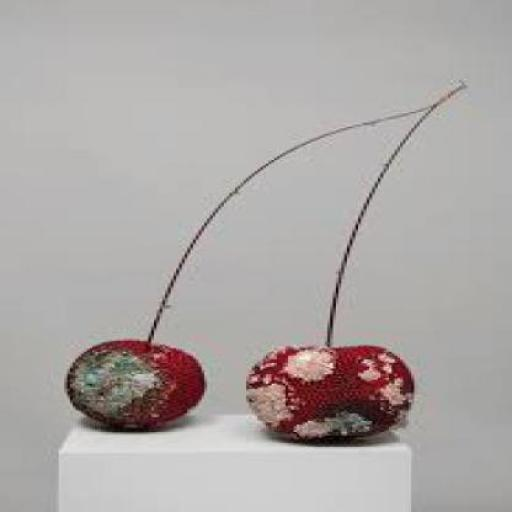biodegradable: (243, 344, 412, 441), (62, 337, 204, 430)
